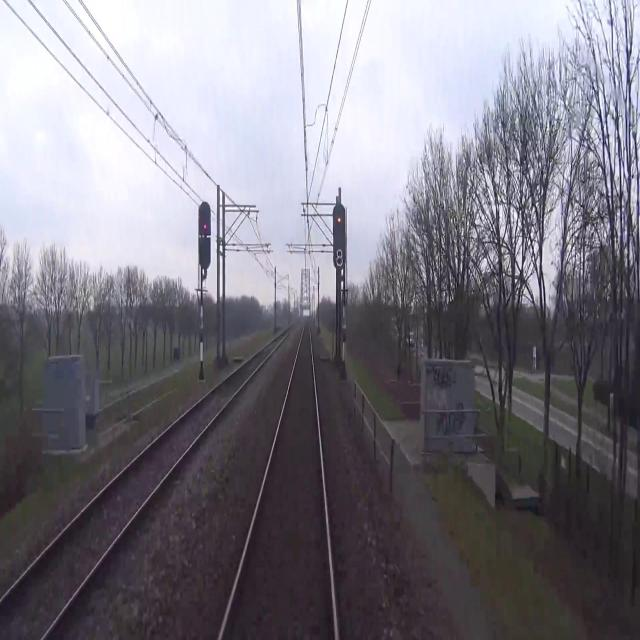rail-track: (0, 332, 286, 639), (222, 322, 333, 639)
